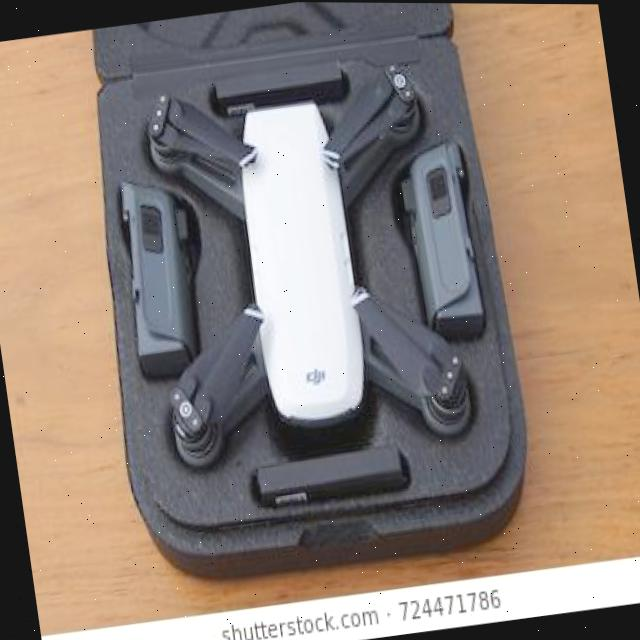drone: (0, 19, 640, 551)
